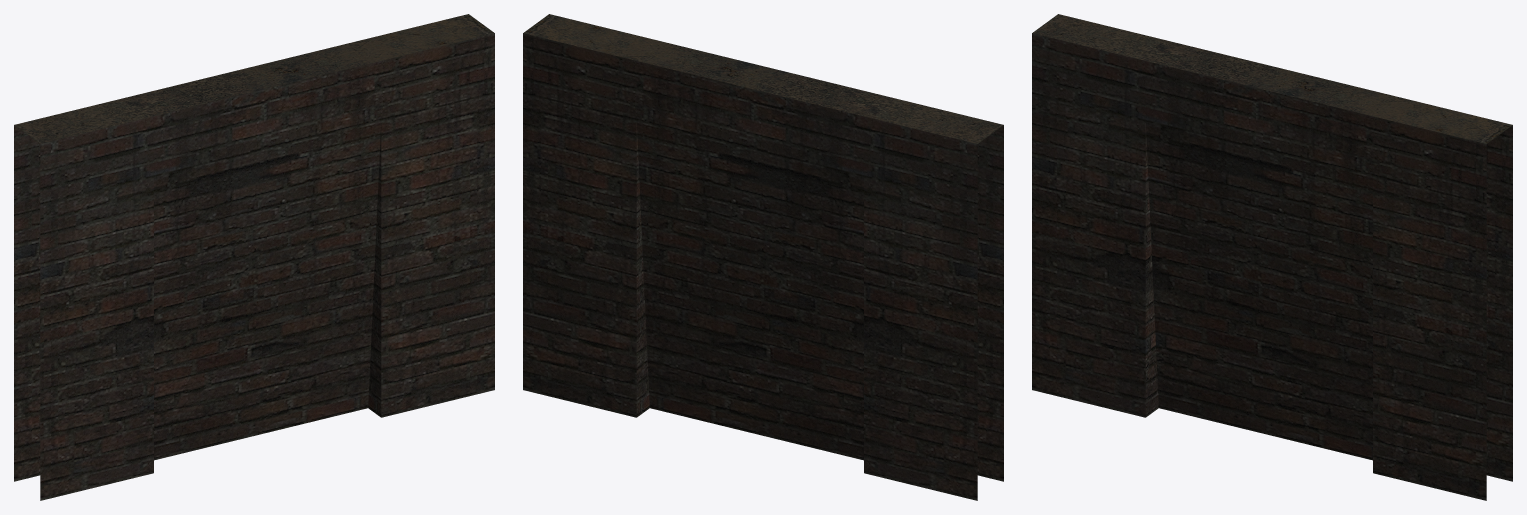
The model's file is wall_hs_1_t_2.dae.
The picture shows the model from 3 angles, left to right: view 1: azimuth 30°, elevation 25°; view 2: azimuth 150°, elevation 25°; view 3: azimuth 330°, elevation 25°; orthographic projection.
Visible parts, largest first — view 1: wall_hs_1_t_2; view 2: wall_hs_1_t_2; view 3: wall_hs_1_t_2.
Boxes of the visible parts, <box> form: wall_hs_1_t_2: <box>14,14,494,500</box>; wall_hs_1_t_2: <box>523,14,1003,500</box>; wall_hs_1_t_2: <box>1032,14,1512,500</box>.
Size of the model in its own units: 4 by 0.4 by 3.
2 materials, 2 textured.
